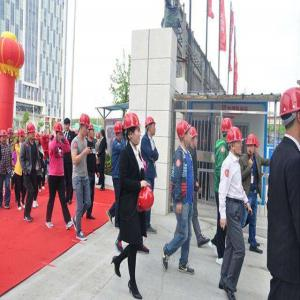none: (64, 118, 73, 133)
red: (279, 87, 300, 142), (124, 111, 143, 148), (227, 127, 244, 158), (176, 120, 193, 150), (246, 134, 259, 159), (220, 117, 233, 139), (80, 113, 91, 139), (145, 117, 157, 139), (114, 120, 125, 142), (27, 122, 38, 143), (190, 126, 199, 151), (54, 123, 64, 144), (87, 123, 97, 142), (2, 128, 9, 148), (18, 130, 26, 145), (8, 127, 15, 141)
